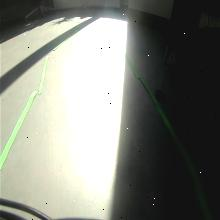crosswalk: (162, 43, 182, 68)
